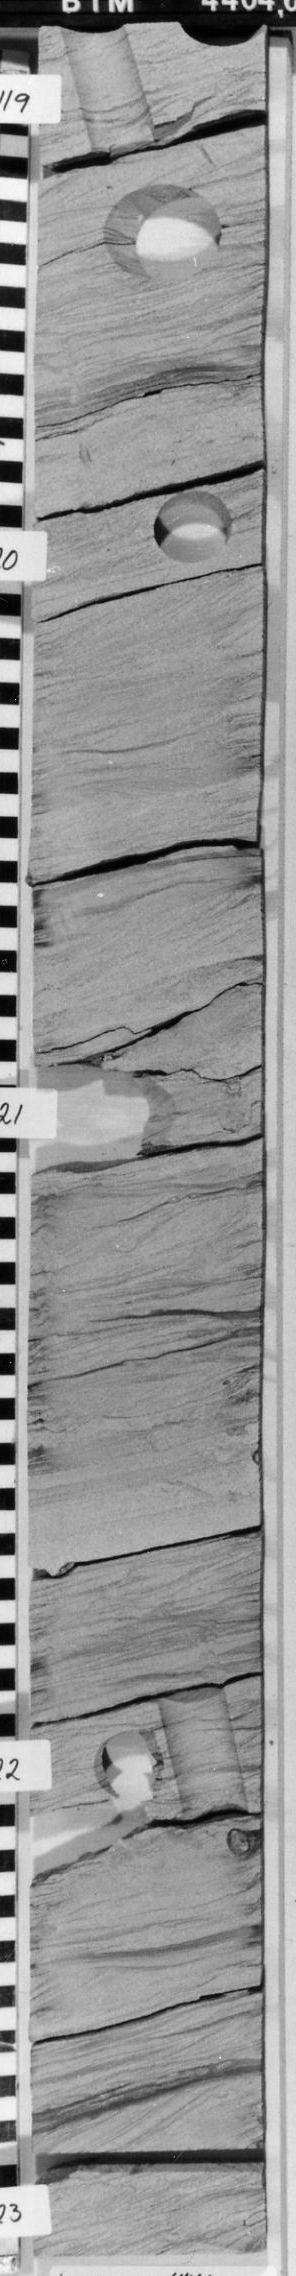hplug: (104, 1055, 189, 1174), (147, 488, 234, 563), (83, 1720, 164, 1798)
scal: (99, 177, 226, 287)
vplug: (59, 30, 165, 160), (155, 1690, 252, 1822)
